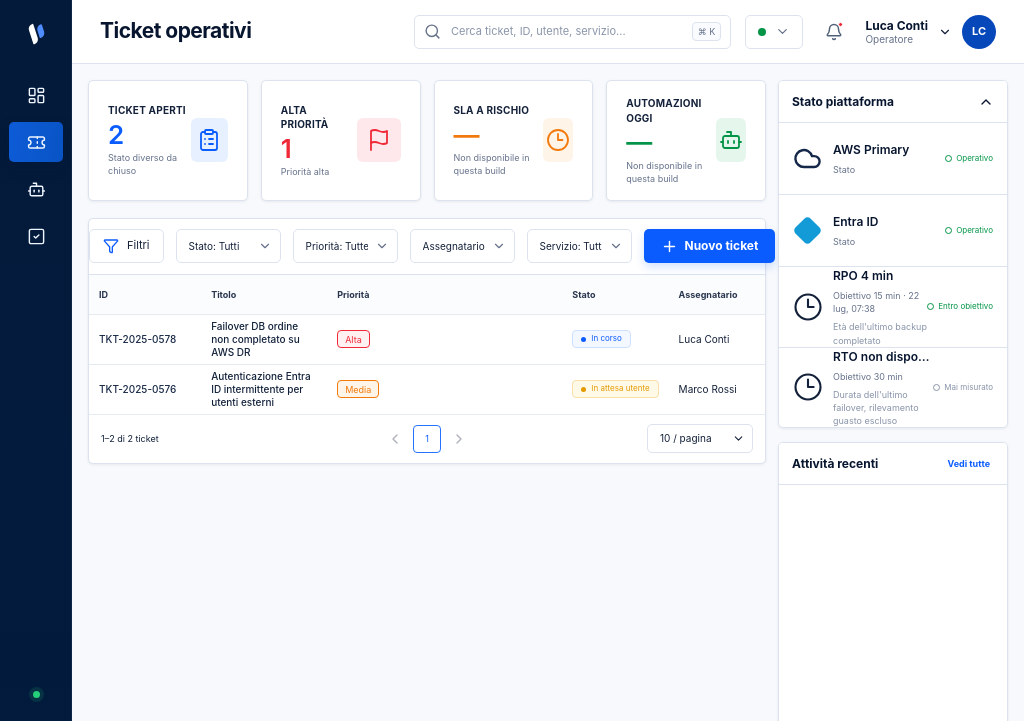
Test: Helios Desk dashboard › shows the real creator of the ticket in the detail drawer
The width and height of the screenshot is (1024, 721).
Click the row "TKT-2025-0576". click: click(509, 390)
box: [89,365,929,415]
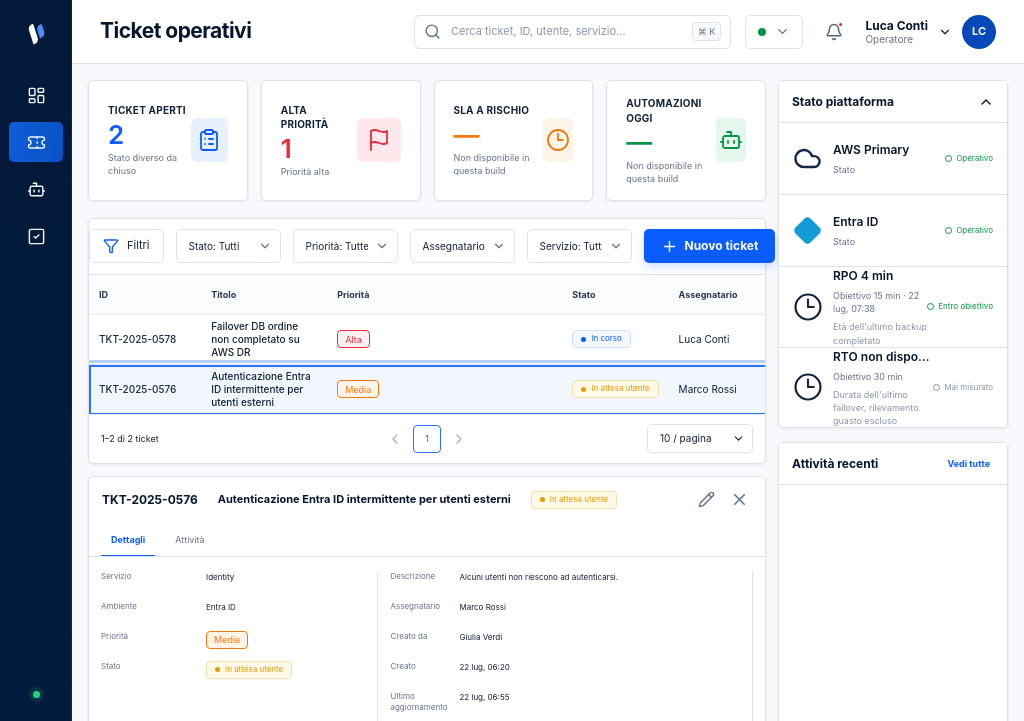
Check: the text "Creato da" is shown, box [390,631,427,641]
Check: the text "Giulia Verdi" is shown, box [459,632,502,642]
